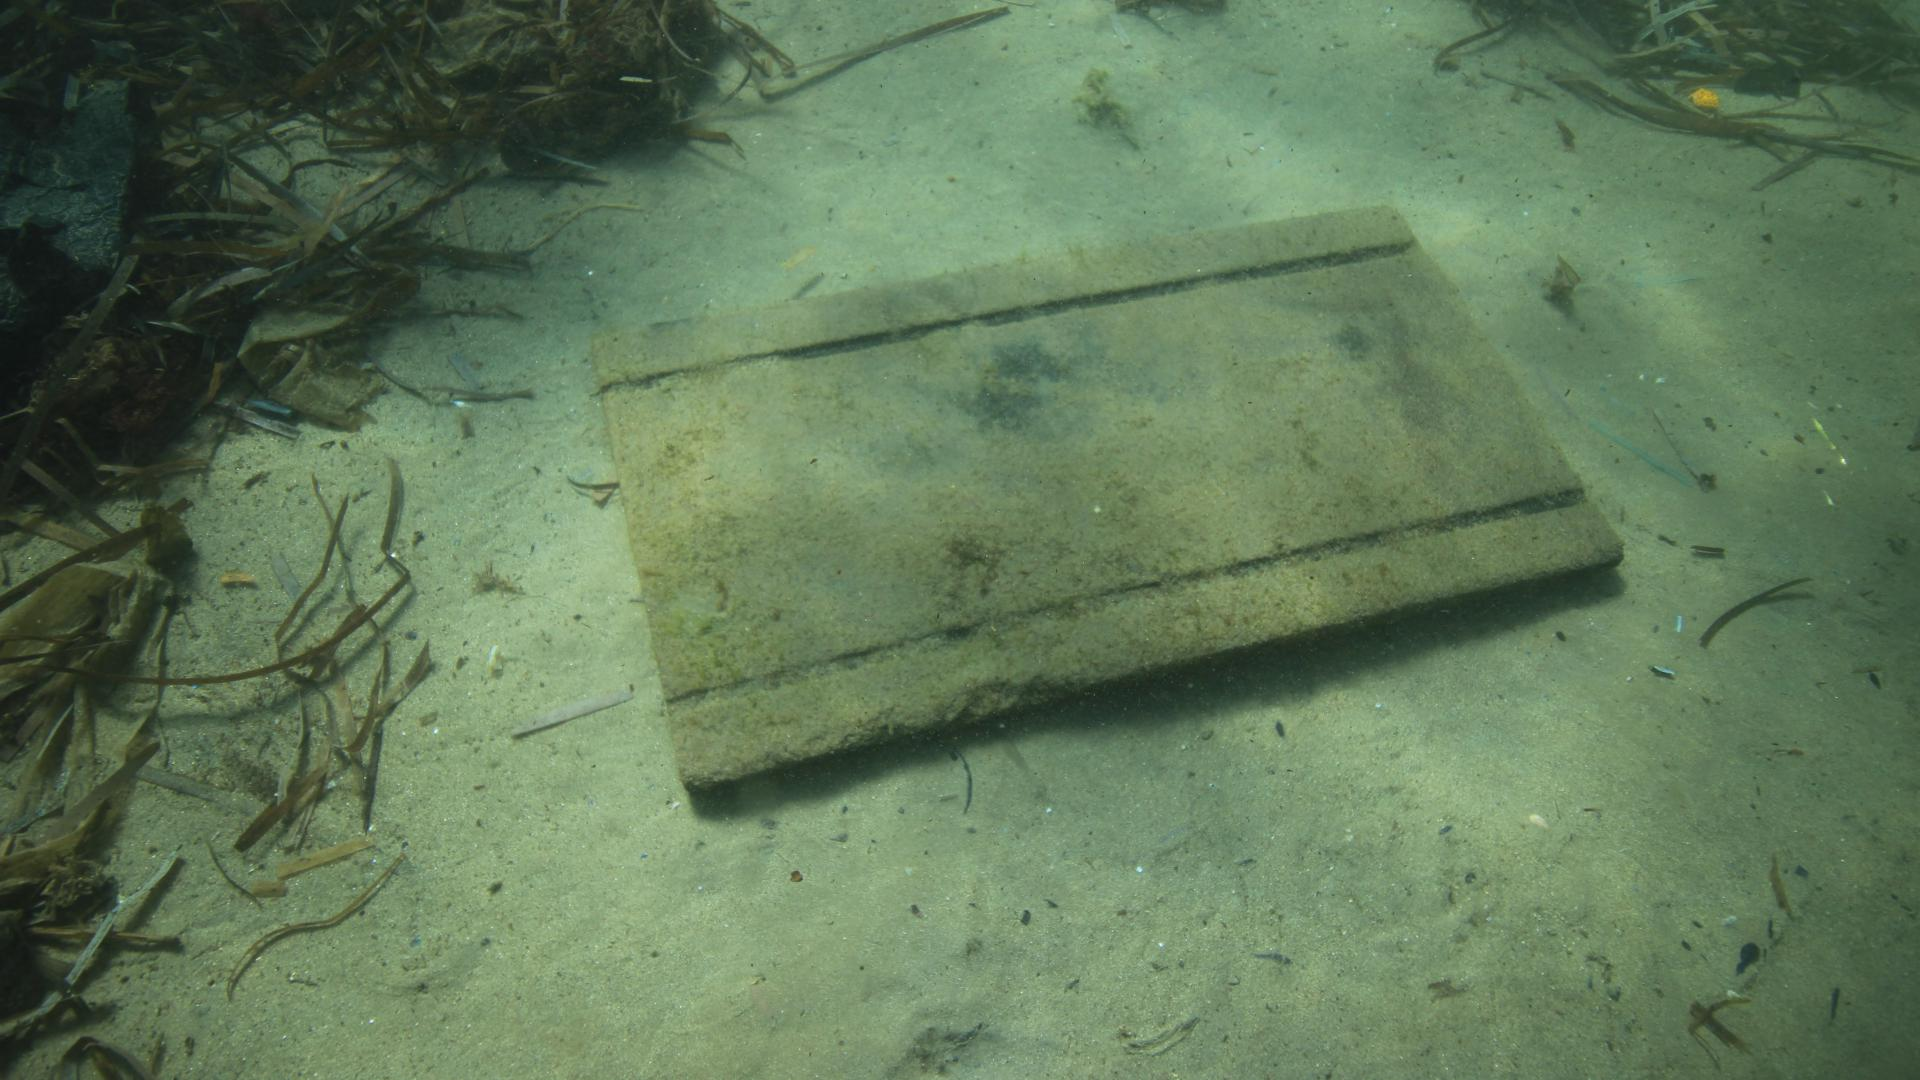wood: (591, 206, 1619, 793)
